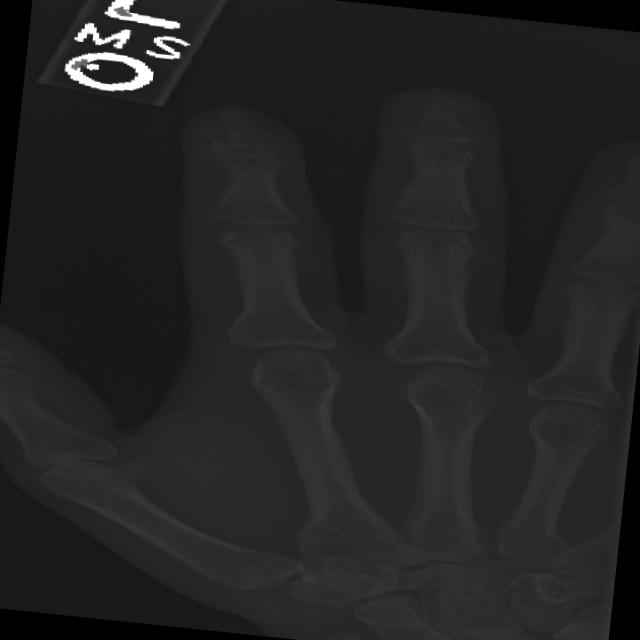fingers positive: (199, 122, 293, 155), (421, 125, 482, 156)
